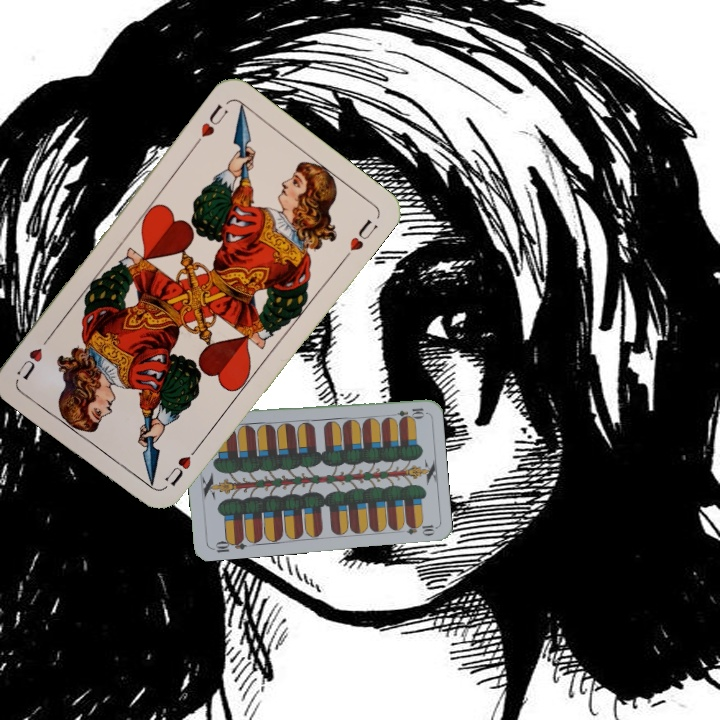E10: (208, 534, 248, 555), (386, 404, 427, 420)
HU: (190, 100, 231, 149), (160, 451, 194, 489)
